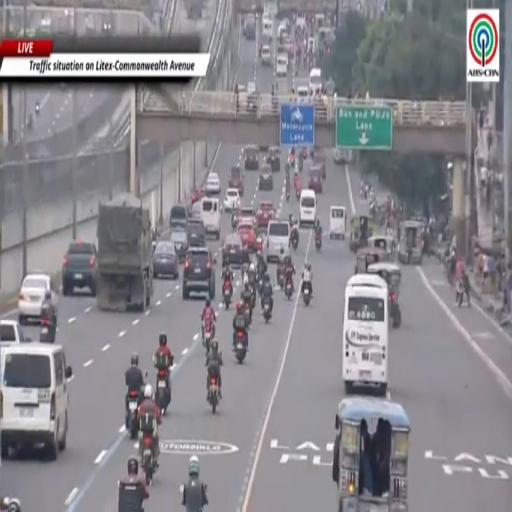car: (0, 343, 72, 460), (18, 274, 58, 325), (62, 240, 97, 296), (182, 247, 215, 299), (153, 240, 179, 279), (267, 220, 290, 262), (222, 233, 249, 266), (0, 319, 31, 347), (170, 229, 188, 261), (237, 222, 256, 251), (257, 201, 275, 229), (228, 166, 244, 197), (188, 218, 205, 247), (170, 204, 188, 230), (308, 165, 323, 193), (189, 187, 204, 214), (236, 205, 255, 226), (313, 150, 326, 180), (204, 172, 220, 196), (259, 164, 273, 190), (224, 188, 239, 212), (242, 18, 257, 41), (244, 146, 258, 170), (267, 147, 280, 171), (246, 91, 258, 113), (189, 201, 202, 219), (261, 45, 271, 66), (247, 82, 256, 94), (235, 84, 246, 93)
jeepney: (332, 397, 410, 511), (367, 262, 401, 328), (397, 220, 424, 264), (349, 216, 375, 252), (355, 247, 387, 274)
motorcycle: (141, 434, 155, 485), (155, 371, 170, 414), (126, 391, 139, 439), (234, 330, 246, 363), (209, 377, 219, 413), (40, 319, 55, 343), (203, 322, 212, 354), (262, 297, 272, 323), (223, 281, 232, 309), (3, 498, 21, 511), (243, 301, 252, 325), (303, 285, 311, 306), (284, 278, 292, 299), (277, 268, 284, 290), (250, 283, 256, 308), (291, 231, 298, 251), (257, 278, 263, 295), (316, 232, 321, 251), (231, 212, 236, 230), (299, 153, 303, 172), (286, 187, 290, 201), (180, 484, 185, 495), (152, 240, 156, 252), (296, 188, 300, 200)
truck: (96, 194, 153, 311)
